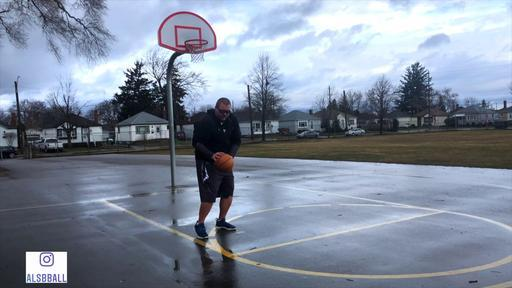ball: (216, 154, 234, 170)
human: (192, 98, 241, 238)
rim: (184, 39, 208, 62)
